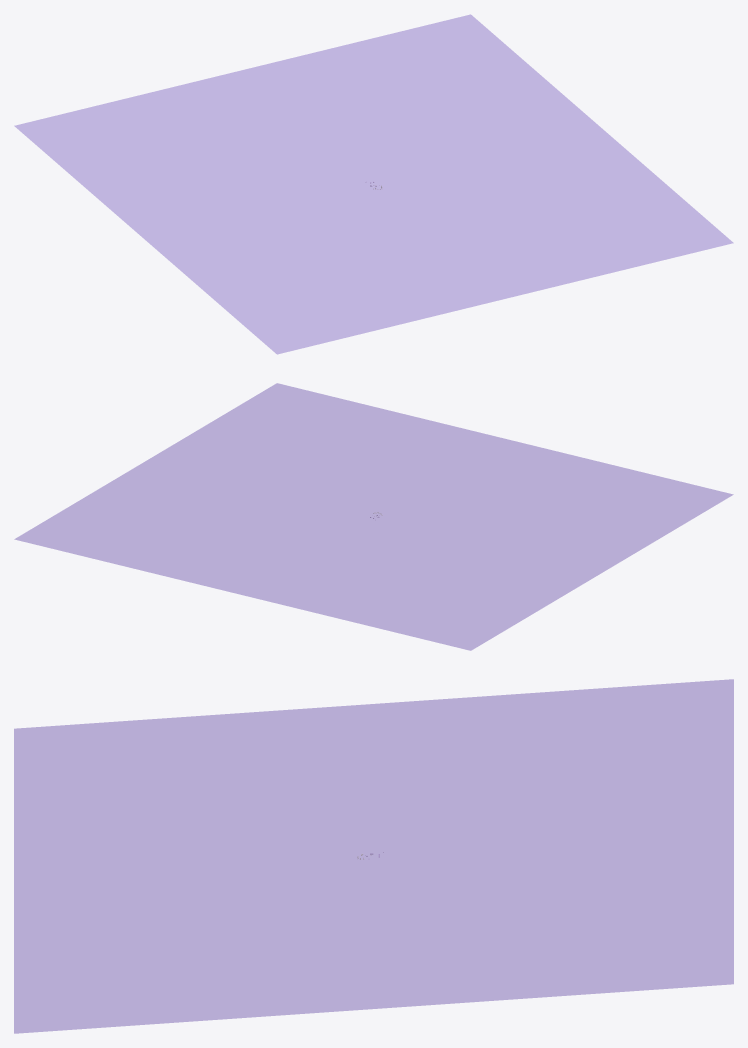
The model's file is Map3.gltf.
The picture shows the model from 3 angles, top to bottom: view 1: azimuth 30°, elevation 25°; view 2: azimuth 150°, elevation 25°; view 3: azimuth 270°, elevation 25°; orthographic projection. The views are drawn at different scales.
Parts seen in each view (by area): view 1: Fog; view 2: Fog; view 3: Fog.
Part boxes in pixels (<box>): Fog: <box>14,14,733,354</box>; Fog: <box>14,383,733,650</box>; Fog: <box>14,679,733,1033</box>.
Bounding box in the file's own units: 1000 × 75.67 × 997.
